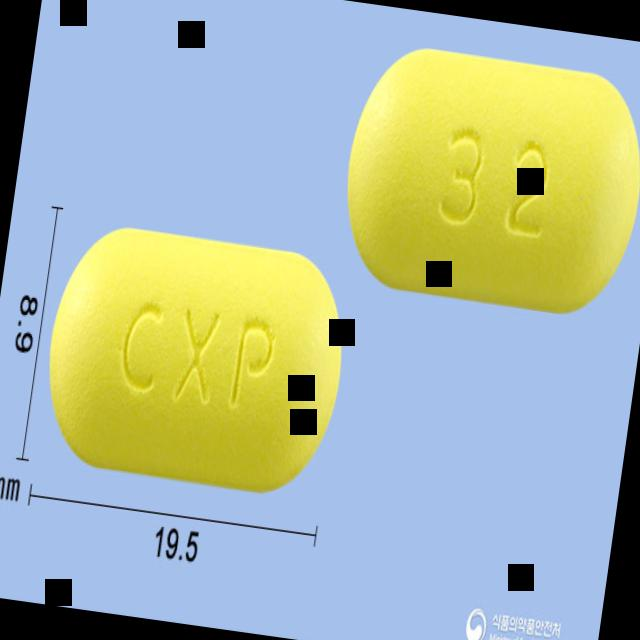Cefixime Cap- Samsung: (35, 218, 357, 501), (333, 37, 640, 324)
